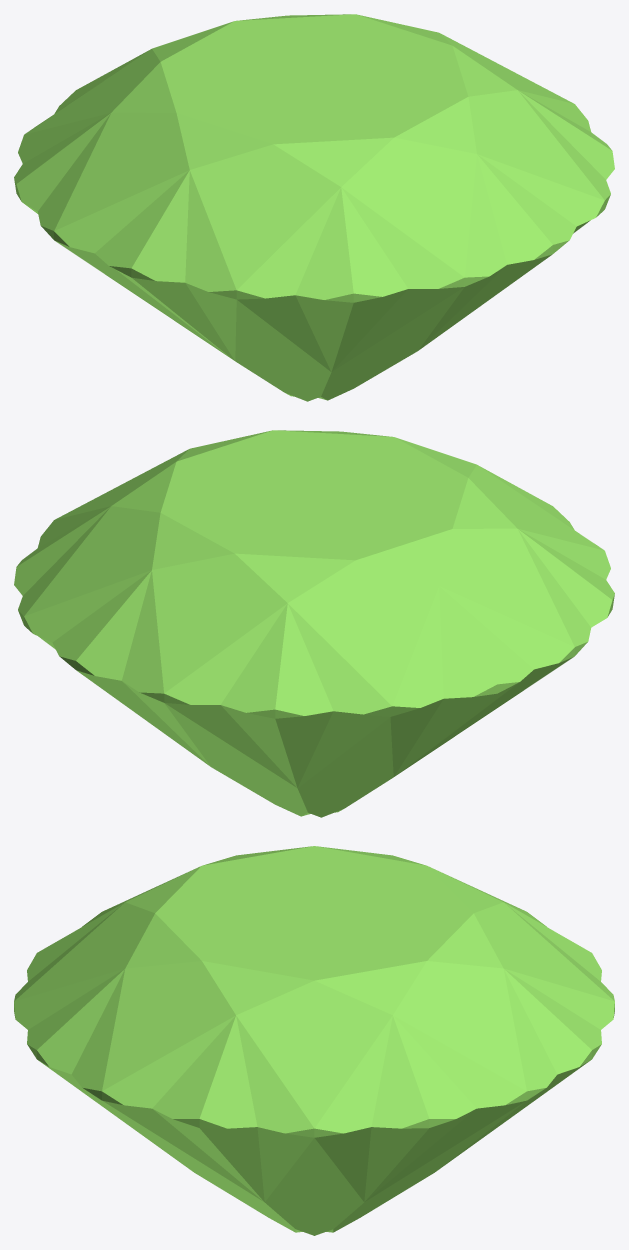
Rendered from doamant.fbx.
The picture shows the model from 3 angles, top to bottom: view 1: azimuth 30°, elevation 25°; view 2: azimuth 150°, elevation 25°; view 3: azimuth 270°, elevation 25°; orthographic projection.
Parts seen in each view (by area): view 1: dobj; view 2: dobj; view 3: dobj.
Part boxes in pixels (x1,y1,x2,y2): dobj: [14, 14, 614, 401]; dobj: [14, 430, 614, 817]; dobj: [14, 846, 614, 1235].
Size of the model in its own units: 0.1463 by 0.1463 by 0.0853.
